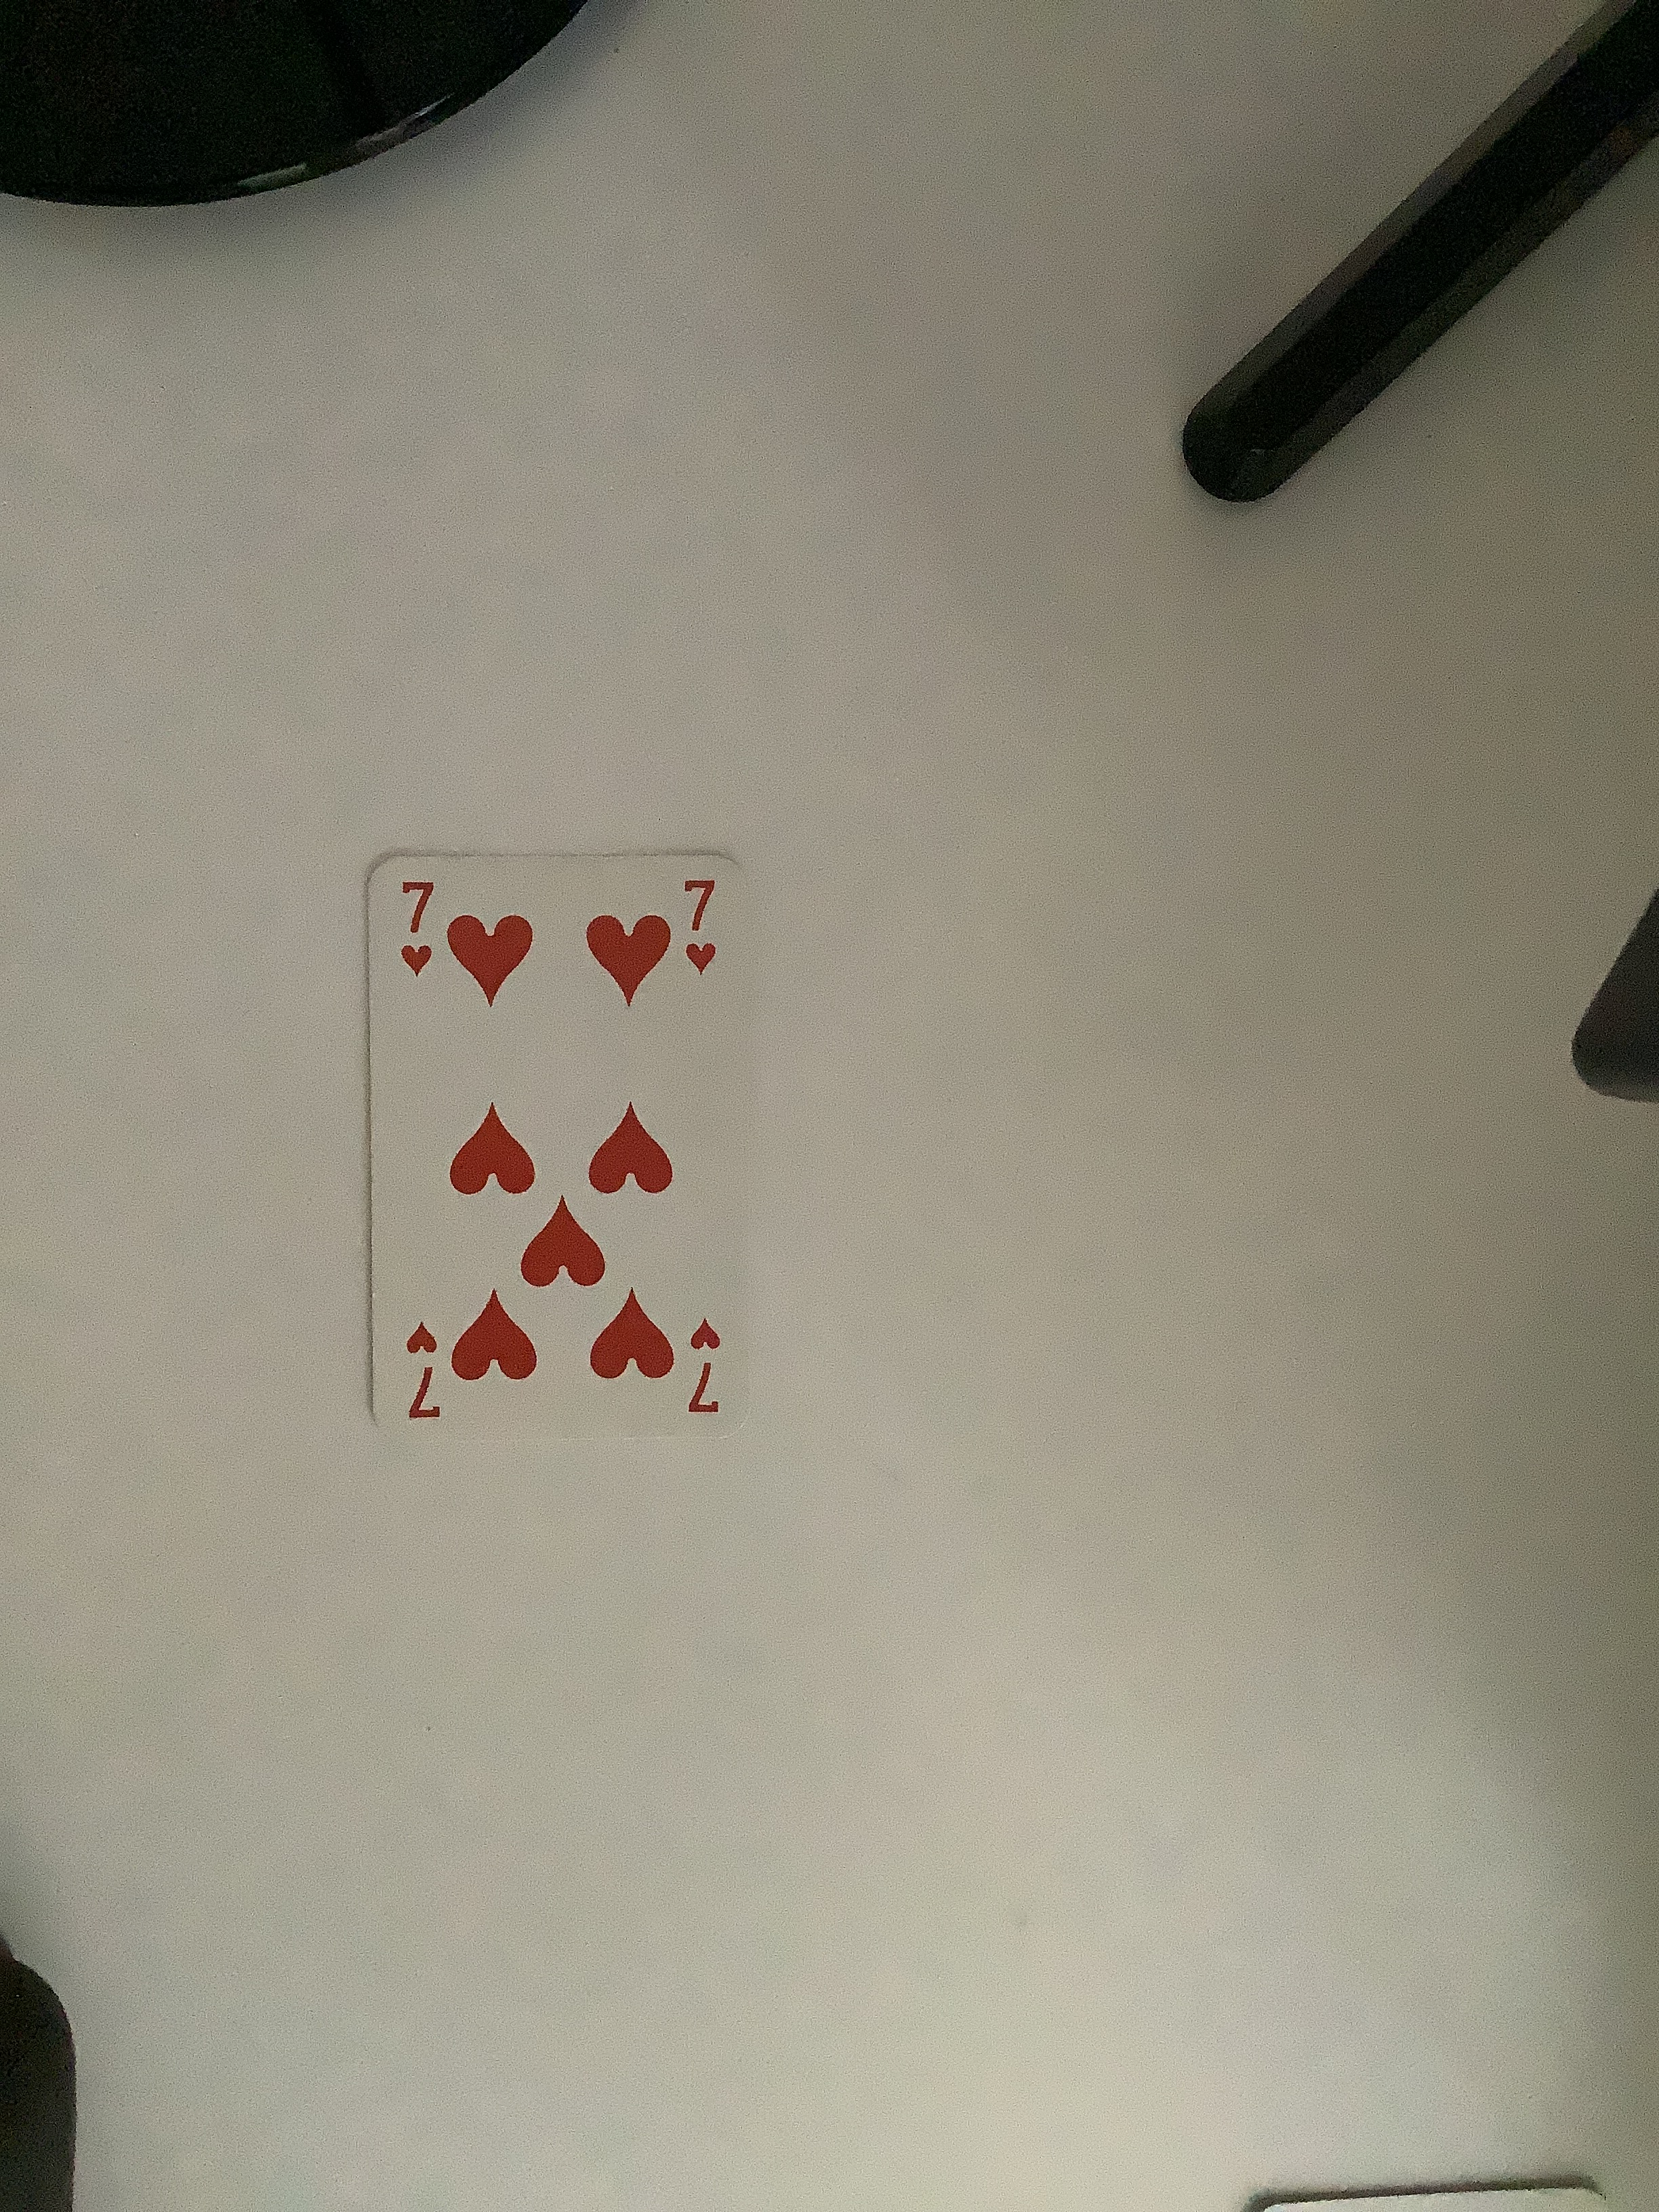♥ 7: (338, 834, 784, 1470)
